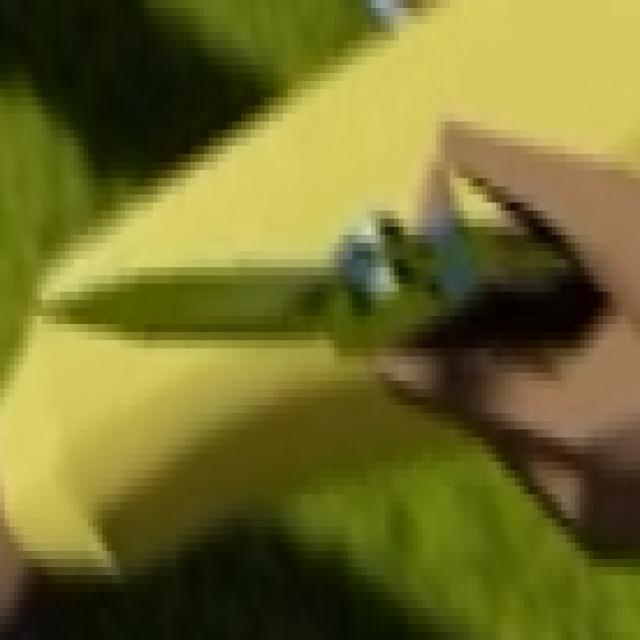Fknife: (12, 194, 615, 438)
